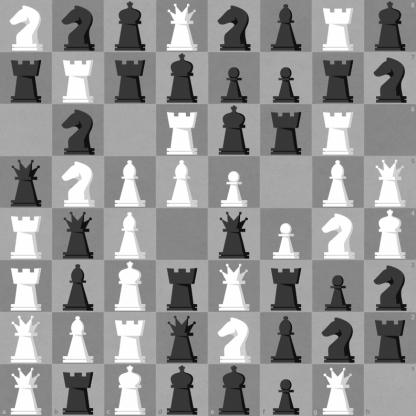B: (53, 313, 104, 364), (105, 157, 156, 208), (105, 209, 156, 260), (157, 157, 208, 208), (313, 157, 364, 208)
K: (104, 364, 156, 416), (364, 209, 416, 260), (105, 261, 156, 312)
N: (1, 1, 52, 52), (53, 157, 104, 208), (209, 313, 260, 364), (313, 209, 364, 260)
P: (209, 157, 260, 208), (261, 209, 312, 260)
Q: (364, 156, 416, 209), (0, 364, 52, 416), (312, 364, 364, 416), (1, 313, 52, 364), (157, 1, 208, 52), (209, 261, 260, 312)
R: (1, 209, 52, 260), (1, 261, 52, 312), (53, 53, 104, 104), (105, 313, 156, 364), (157, 105, 208, 156), (313, 1, 364, 52), (313, 105, 364, 156)
b: (53, 261, 104, 312), (261, 1, 312, 52), (261, 313, 312, 364)
board: (0, 0, 415, 415)
k: (156, 364, 209, 416), (364, 0, 416, 52), (209, 364, 260, 416), (105, 1, 156, 52), (157, 53, 208, 104), (209, 105, 260, 156)
n: (364, 52, 416, 104), (364, 260, 416, 312), (53, 1, 104, 52), (53, 105, 104, 156), (209, 1, 260, 52), (313, 313, 364, 364)
p: (260, 364, 312, 416), (209, 53, 260, 104), (261, 53, 312, 104), (313, 261, 364, 312)
q: (1, 157, 52, 208), (53, 209, 104, 260), (157, 313, 208, 364), (209, 209, 260, 260)
r: (52, 364, 104, 416), (364, 312, 416, 364), (1, 53, 52, 104), (105, 53, 156, 104), (157, 261, 208, 312), (261, 105, 312, 156), (261, 261, 312, 312), (313, 53, 364, 104)
